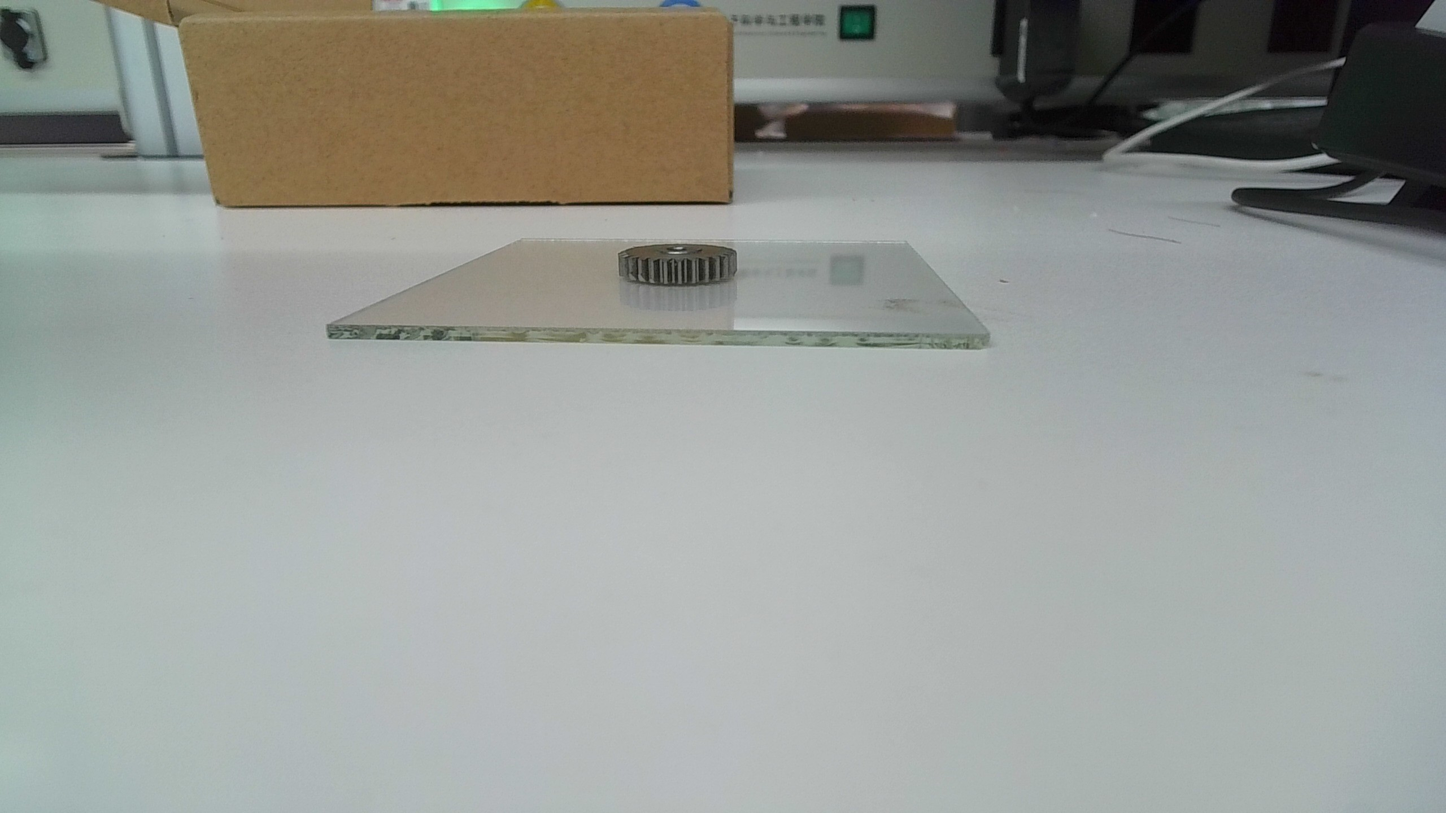gear: (617, 242, 739, 289)
